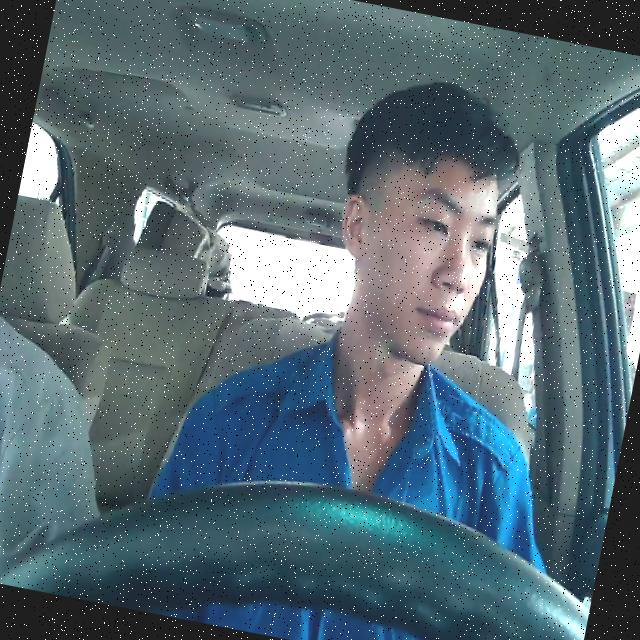seeing_right: (314, 136, 506, 372)
